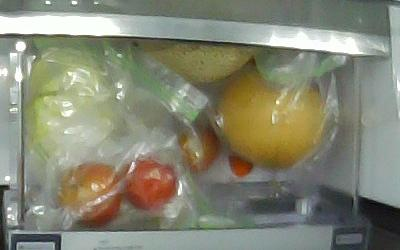cabbage_vinyl: (32, 48, 115, 166)
melon_vinyl: (139, 42, 254, 81)
pear_vinyl: (218, 63, 327, 169)
prune_vinyl: (59, 162, 122, 228), (125, 160, 178, 209)
tomato_vinyl: (179, 120, 219, 173)
